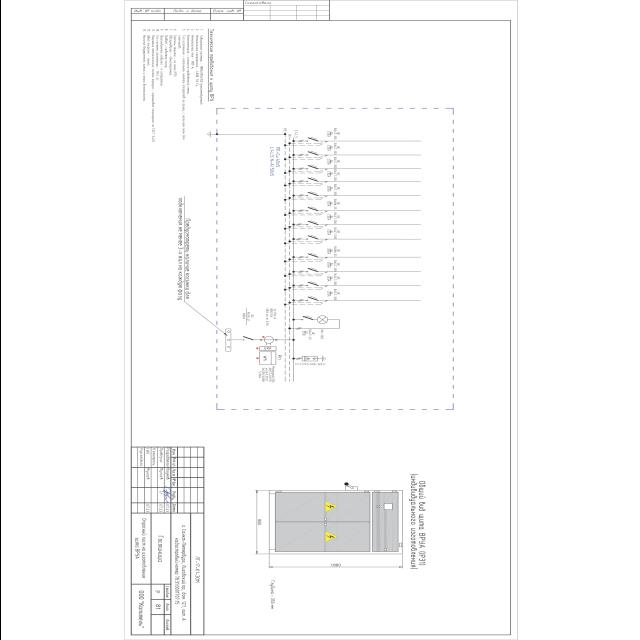-: (256, 366, 276, 384), (264, 308, 272, 326), (326, 183, 336, 196), (326, 212, 336, 224), (326, 169, 336, 181), (326, 288, 336, 300), (326, 260, 336, 272), (326, 142, 336, 154), (326, 274, 336, 286), (326, 244, 336, 256), (326, 227, 336, 239), (326, 128, 336, 140), (326, 198, 336, 210), (326, 156, 336, 168), (300, 330, 311, 340), (241, 310, 249, 322)
HL: (316, 315, 328, 325)
QF: (304, 252, 318, 260), (304, 266, 318, 274), (304, 190, 318, 198), (304, 176, 318, 184), (304, 150, 318, 158), (300, 314, 314, 322), (304, 234, 318, 241), (304, 220, 318, 227), (304, 205, 318, 212), (304, 280, 318, 287), (304, 163, 318, 170), (304, 295, 318, 302), (304, 136, 318, 143)
QS: (242, 335, 254, 342)
TT: (262, 336, 274, 346)
WH: (258, 351, 276, 365)
